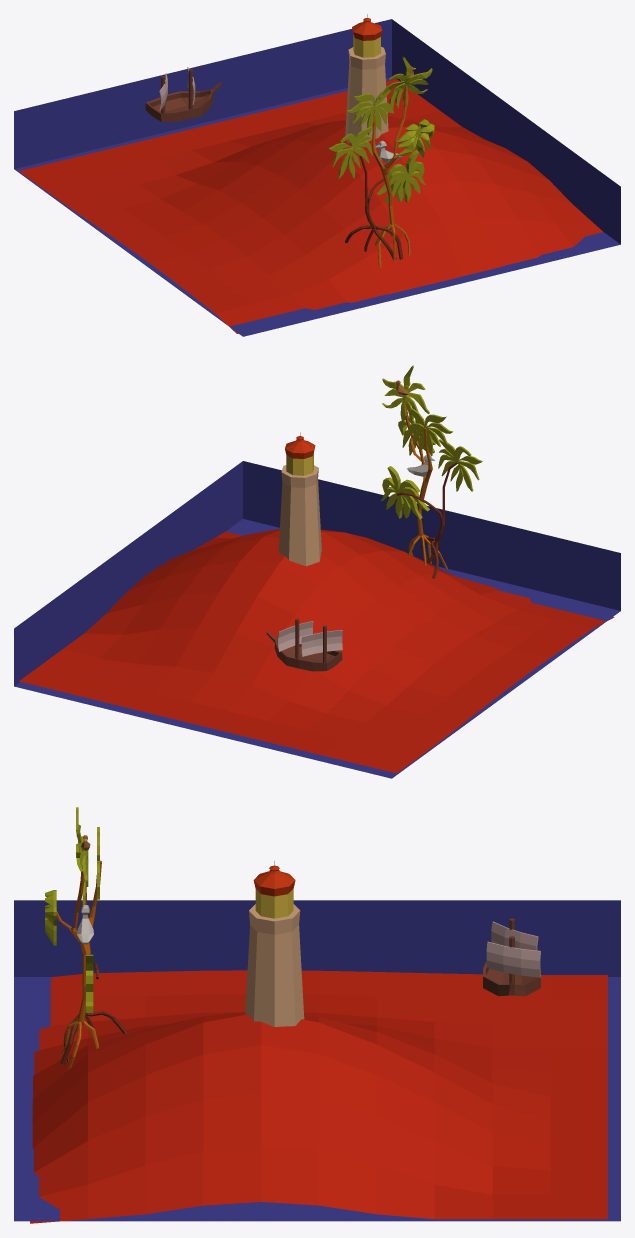
The picture shows the model from 3 angles, top to bottom: view 1: azimuth 30°, elevation 25°; view 2: azimuth 150°, elevation 25°; view 3: azimuth 270°, elevation 25°; orthographic projection. The views are drawn at different scales.
Parts seen in each view (by area): view 1: Island, Water, LightHouse, Cube, TreeLite, Leaves1, Leaves5, Leaves4, Leaves3, Leaves2, TreeDark; view 2: Island, Water, LightHouse, Leaves1, Cube, Leaves5, Leaves4, TreeLite, Leaves3, Cube.001, TreeDark, Cube.002; view 3: Island, Water, LightHouse, TreeLite, Cube.002, Cube, Cube.001, TreeDark, Leaves2.
Boxes of the visible parts, bbox=[...] form: Island: bbox=[19, 79, 602, 333]; Water: bbox=[14, 19, 620, 336]; LightHouse: bbox=[345, 14, 388, 143]; Cube: bbox=[145, 82, 221, 121]; TreeLite: bbox=[372, 86, 420, 267]; Leaves1: bbox=[377, 150, 425, 203]; Leaves5: bbox=[328, 126, 372, 178]; Leaves4: bbox=[347, 89, 394, 135]; Leaves3: bbox=[379, 56, 432, 109]; Leaves2: bbox=[397, 119, 434, 158]; TreeDark: bbox=[345, 155, 403, 259]; Island: bbox=[19, 529, 614, 773]; Water: bbox=[14, 461, 620, 778]; LightHouse: bbox=[278, 432, 321, 566]; Leaves1: bbox=[380, 466, 429, 519]; Cube: bbox=[266, 631, 342, 671]; Leaves5: bbox=[438, 439, 482, 491]; Leaves4: bbox=[406, 408, 453, 456]; TreeLite: bbox=[403, 399, 447, 569]; Leaves3: bbox=[382, 365, 429, 423]; Cube.001: bbox=[301, 630, 342, 656]; TreeDark: bbox=[397, 462, 457, 578]; Cube.002: bbox=[277, 621, 313, 651]; Island: bbox=[30, 970, 607, 1223]; Water: bbox=[14, 900, 620, 1221]; LightHouse: bbox=[245, 861, 304, 1026]; TreeLite: bbox=[56, 854, 101, 1069]; Cube.002: bbox=[486, 941, 540, 977]; Cube: bbox=[483, 961, 540, 996]; Cube.001: bbox=[491, 921, 538, 950]; TreeDark: bbox=[60, 887, 127, 1064]; Leaves2: bbox=[45, 890, 56, 945].
Bounding box in the file's own units: 20 × 11.11 × 21.
